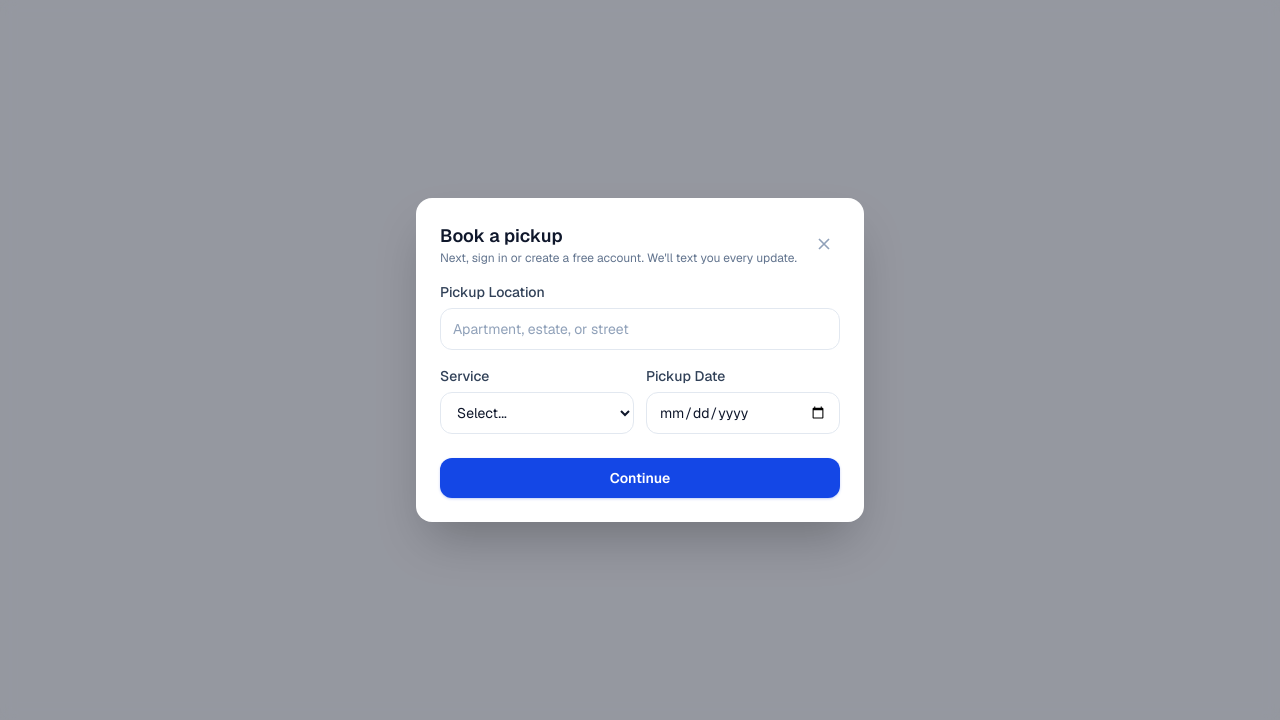
Test: BookingModal › clears a field's error once the user edits it
Click the button "Continue": point(640, 478) x1=440 y1=458 x2=840 y2=498
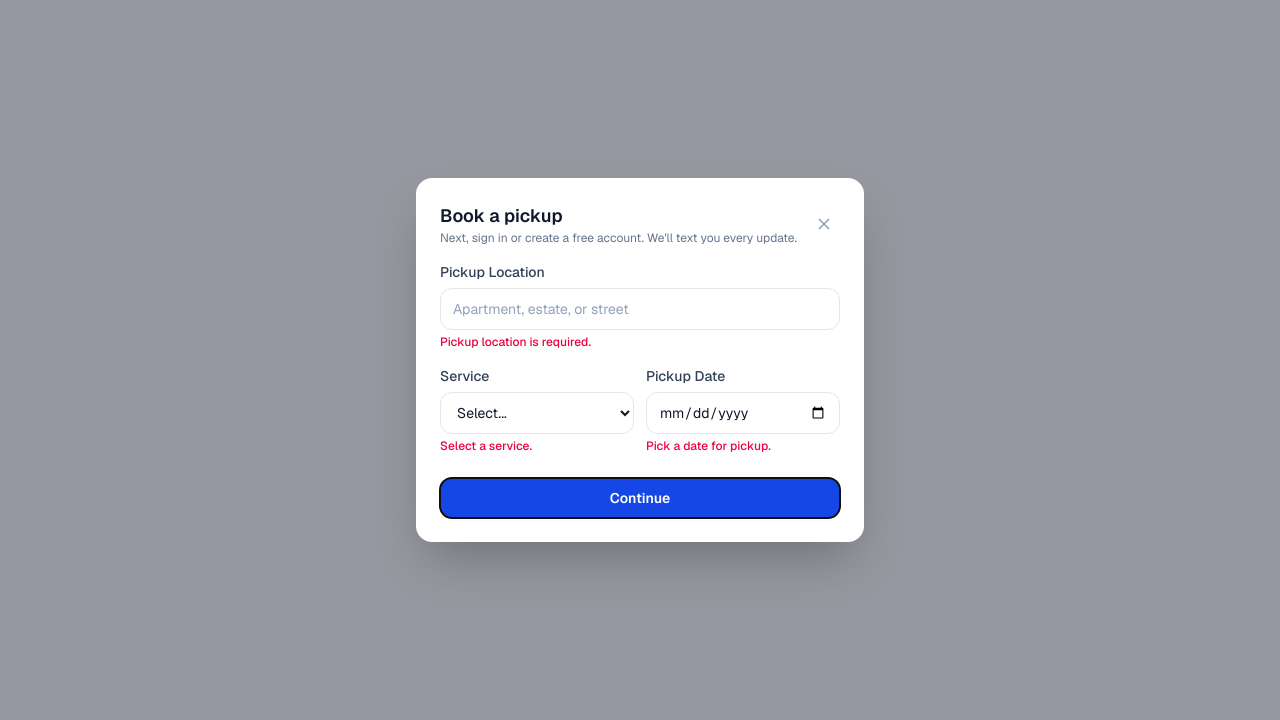
In the field labelled "Pickup Location": point(640, 309) x1=440 y1=288 x2=840 y2=330, type "K"
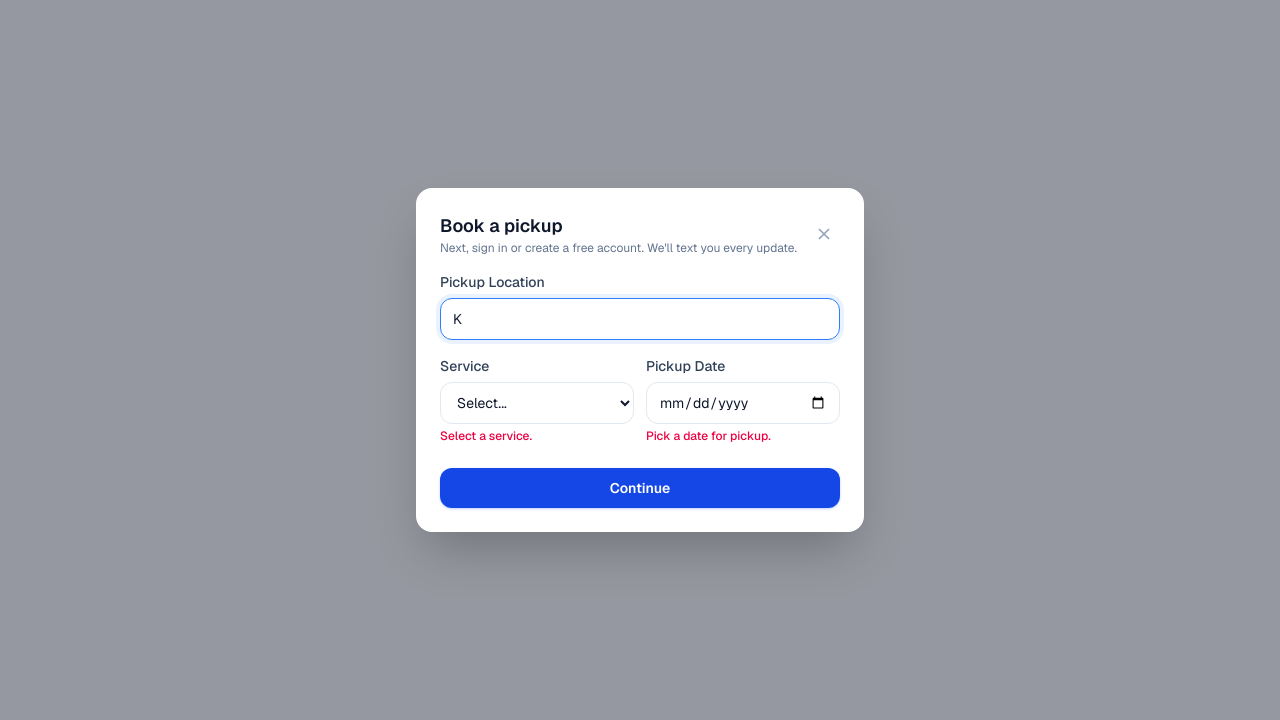
Result: the text "Pickup location is required." is gone
